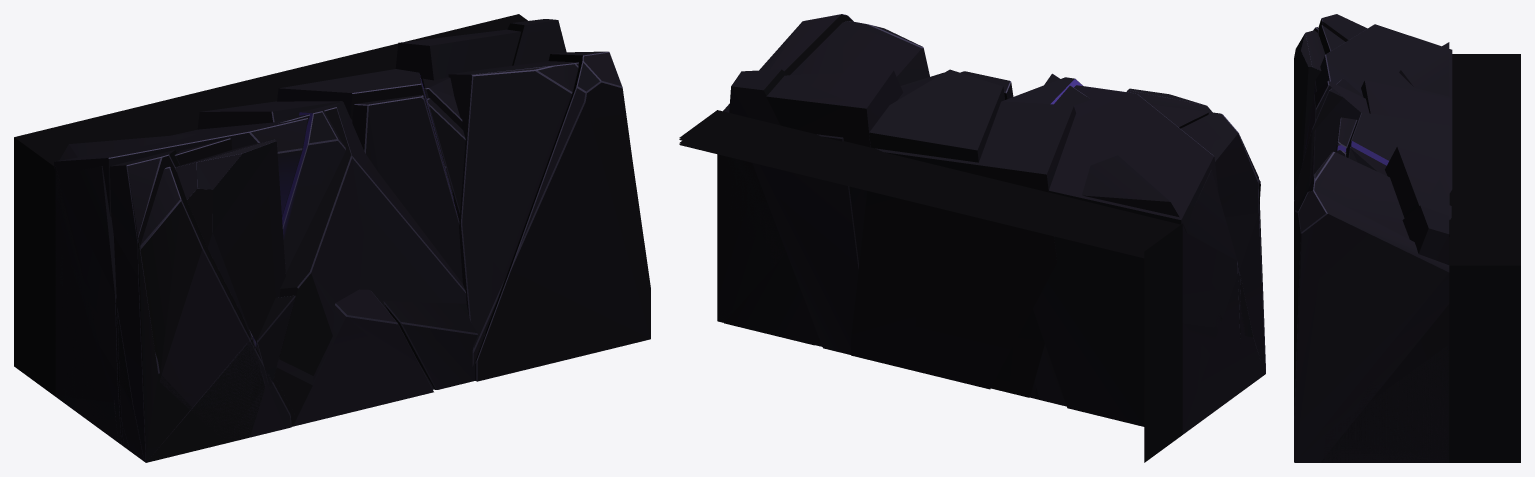
Rendered from cliff-kit.glb.
3 views of the same model, side by side, from view 1: azimuth 30°, elevation 25°; view 2: azimuth 150°, elevation 25°; view 3: azimuth 270°, elevation 25° (orthographic). The views are drawn at different scales.
Parts seen in each view (by area): view 1: void_wall_1, void_wall_0, void_wall_2, void_wall_3; view 2: void_wall_1, void_wall_2, void_wall_3, void_wall_0; view 3: void_wall_1, void_wall_0, void_wall_3, void_wall_2.
Boxes of the visible parts, x1,y1,x2,y2 form: void_wall_1: (14,51,650,462); void_wall_0: (14,69,465,462); void_wall_2: (14,102,466,441); void_wall_3: (14,14,566,446); void_wall_1: (679,14,1265,461); void_wall_2: (679,77,1220,461); void_wall_3: (679,69,1222,459); void_wall_0: (679,69,1258,462); void_wall_1: (1294,14,1520,462); void_wall_0: (1294,78,1520,462); void_wall_3: (1328,42,1520,462); void_wall_2: (1304,24,1520,462).
Bounding box in the file's own units: 2.1 × 1.15 × 0.95.
